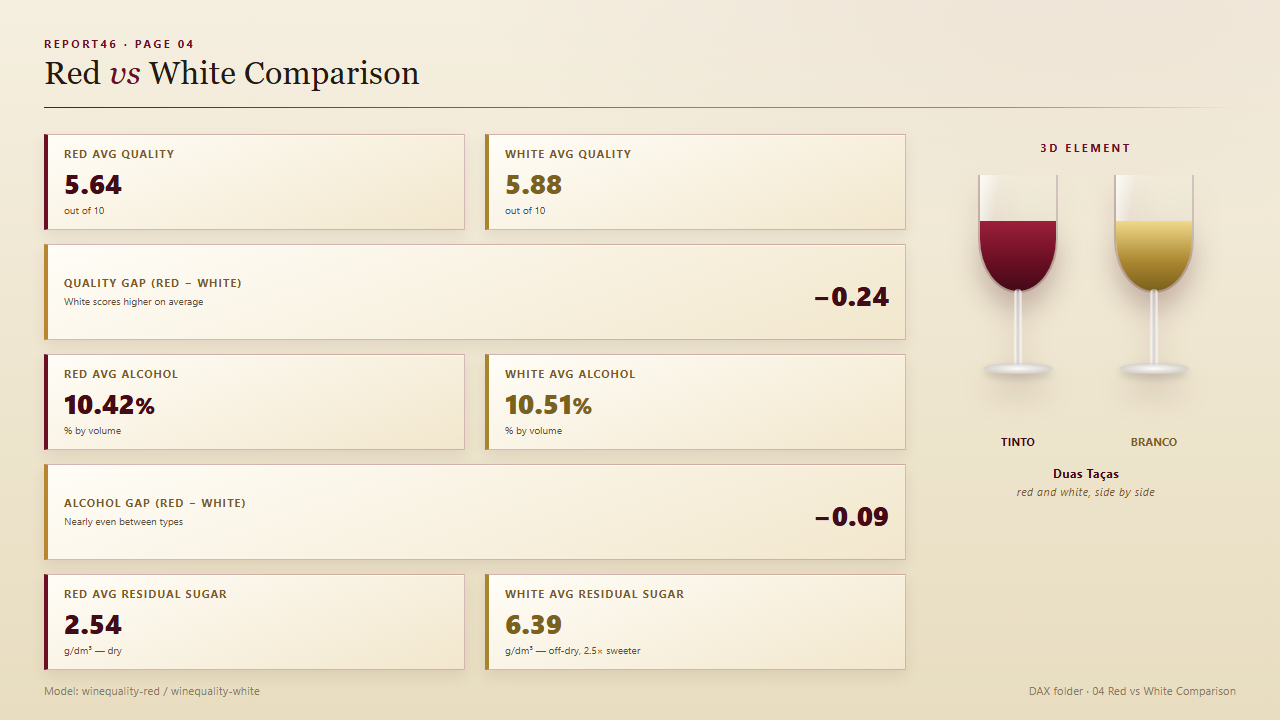

Layout of this report page (visuals, bound fields, positions):
{"tool":"powerbi","page":{"name":"Versus","canvas":[1280,720],"ordinal":3},"visuals":[{"type":"pageNavigator","box":[158.7,669.6,799.6,49.9],"z":0},{"type":"cardVisual","fields":{"Data":["_Measures.Red Avg Quality"]},"box":[48.4,123.9,415.7,146.6],"z":1},{"type":"cardVisual","fields":{"Data":["_Measures.White Avg Quality"]},"box":[485.2,123.9,415.7,146.6],"z":2},{"type":"cardVisual","fields":{"Data":["_Measures.Quality Gap (Red - White)"]},"box":[751.3,223.7,415.7,146.6],"z":3},{"type":"cardVisual","fields":{"Data":["_Measures.Red Avg Alcohol"]},"box":[48.4,344.6,415.7,146.6],"z":4},{"type":"cardVisual","fields":{"Data":["_Measures.White Avg Alcohol"]},"box":[485.2,344.6,415.7,146.6],"z":5},{"type":"cardVisual","fields":{"Data":["_Measures.White Avg Alcohol","_Measures.Alcohol Gap (Red - White)"]},"box":[666.6,479.2,261.5,78.6],"z":6},{"type":"cardVisual","fields":{"Data":["_Measures.Red Avg Residual Sugar"]},"box":[81.6,572.9,415.7,146.6],"z":7},{"type":"cardVisual","fields":{"Data":["_Measures.White Avg Residual Sugar"]},"box":[512.4,572.9,415.7,146.6],"z":8}]}

Visuals, with their boxes in screenshot pixels (x1, y1, x2, y2), scaled from the page's 1280x720 canvas onto the 1280x720 screenshot:
pageNavigator: region(159, 670, 958, 719)
cardVisual - _Measures.Red Avg Quality: region(48, 124, 464, 270)
cardVisual - _Measures.White Avg Quality: region(485, 124, 901, 270)
cardVisual - _Measures.Quality Gap (Red - White): region(751, 224, 1167, 370)
cardVisual - _Measures.Red Avg Alcohol: region(48, 345, 464, 491)
cardVisual - _Measures.White Avg Alcohol: region(485, 345, 901, 491)
cardVisual - _Measures.White Avg Alcohol x _Measures.Alcohol Gap (Red - White): region(667, 479, 928, 558)
cardVisual - _Measures.Red Avg Residual Sugar: region(82, 573, 497, 719)
cardVisual - _Measures.White Avg Residual Sugar: region(512, 573, 928, 719)
